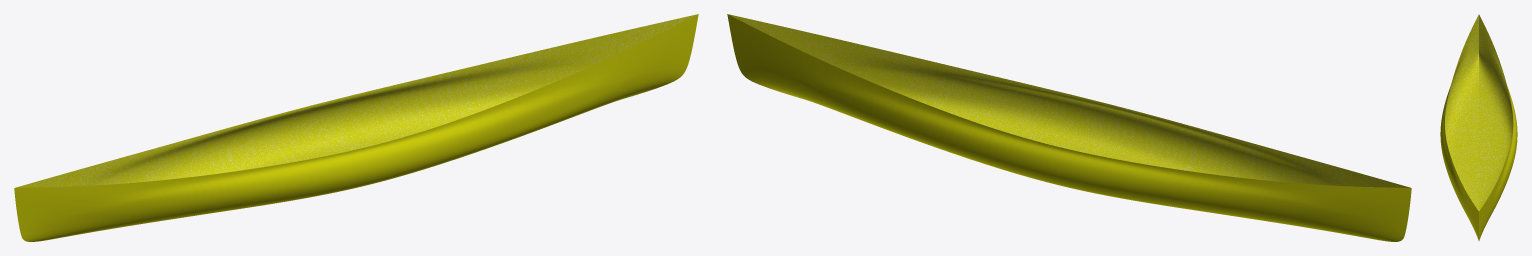
File: tandem_trip.glb
3 views of the same model, side by side, from view 1: azimuth 30°, elevation 25°; view 2: azimuth 150°, elevation 25°; view 3: azimuth 270°, elevation 25° (orthographic). The views are drawn at different scales.
Visible parts, largest first — view 1: Material2 (×2), Material3; view 2: Material2 (×2), Material3; view 3: Material2 (×2), Material3 (×2).
Part boxes in pixels (<box>): Material2 (×2): <box>14,14,698,241</box>; Material3: <box>19,15,693,187</box>; Material2 (×2): <box>727,14,1411,241</box>; Material3: <box>732,16,1407,187</box>; Material2 (×2): <box>1440,15,1517,240</box>; Material3 (×2): <box>1445,15,1512,209</box>.
Size of the model in its own units: 205 by 19.95 by 33.
